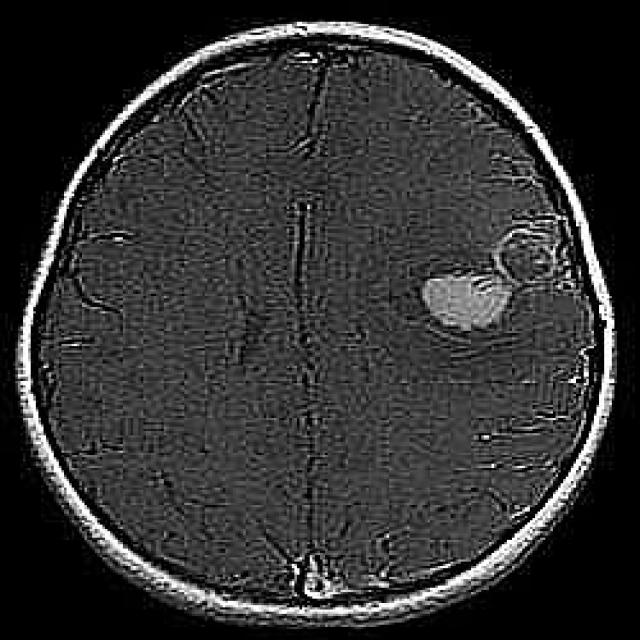Tumor-Cell: (399, 224, 596, 363)
